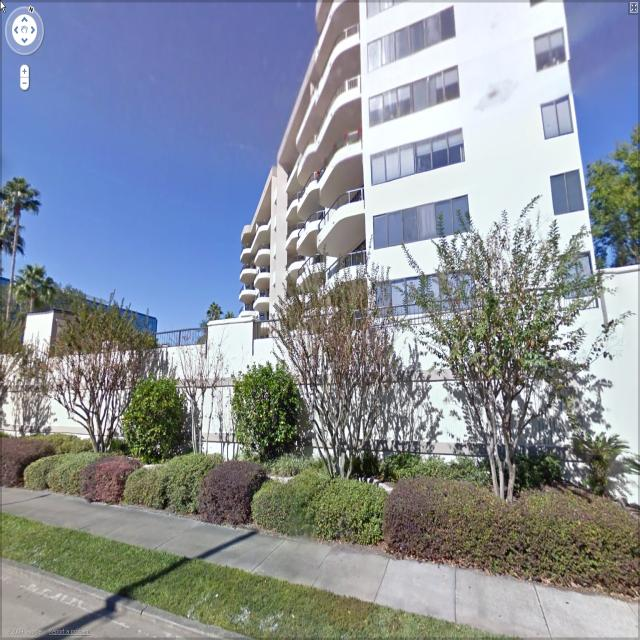b_1: (192, 1, 608, 260)
b_2: (28, 18, 640, 434)
